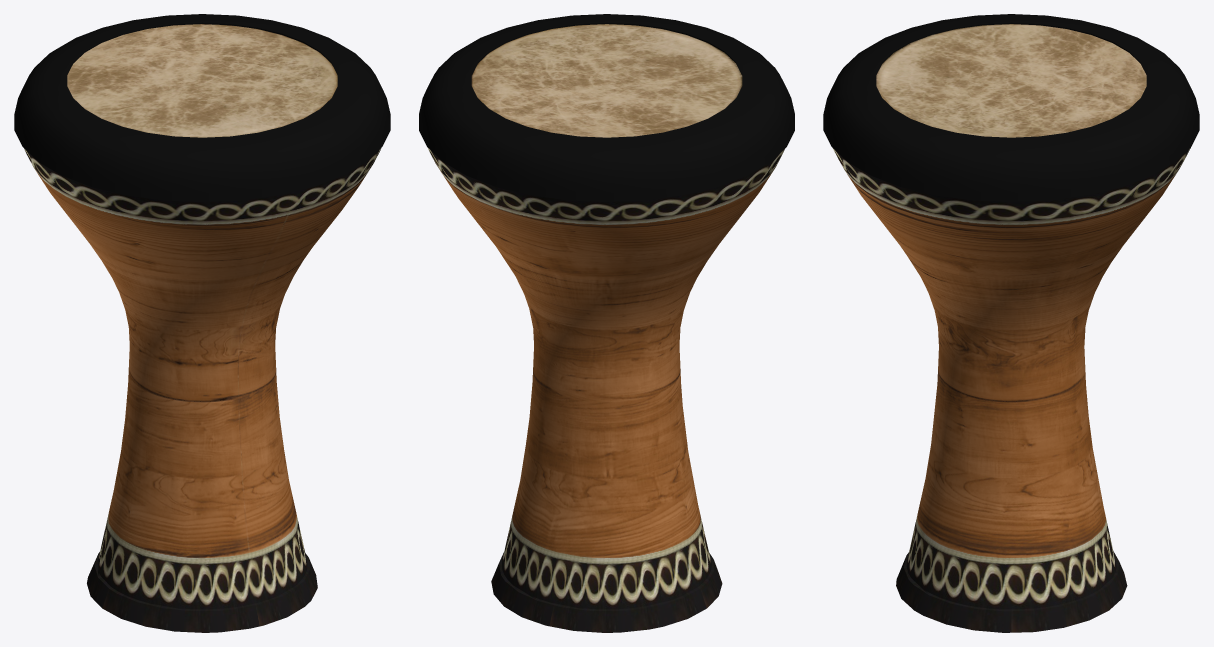
The model's file is Doumbek.FBX.
3 views of the same model, side by side, from view 1: azimuth 30°, elevation 25°; view 2: azimuth 150°, elevation 25°; view 3: azimuth 270°, elevation 25° (orthographic).
Visible parts, largest first — view 1: Doumbek; view 2: Doumbek; view 3: Doumbek.
Part boxes in pixels (x1=…): Doumbek: x1=14, y1=14, x2=390, y2=632; Doumbek: x1=419, y1=14, x2=794, y2=632; Doumbek: x1=823, y1=14, x2=1199, y2=632.
Size of the model in its own units: 31.19 by 45.86 by 31.01.
2 materials, 2 textured.
